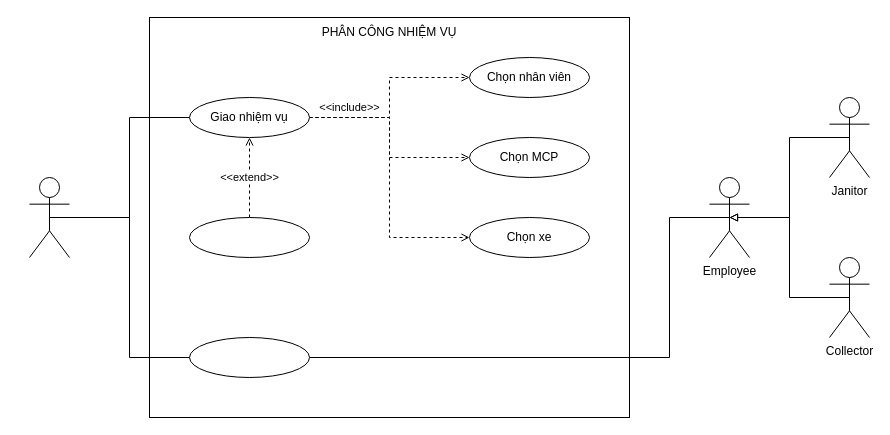
Image size: 890x435. Some labels were removed from this diagram. Here are the shapes that lost their labels. From the top down, the centre of each, then its label:
[49,217]: Back Officer
[249,237]: Chỉnh sửa nhiệm vụ
[249,357]: Gửi thông báo
